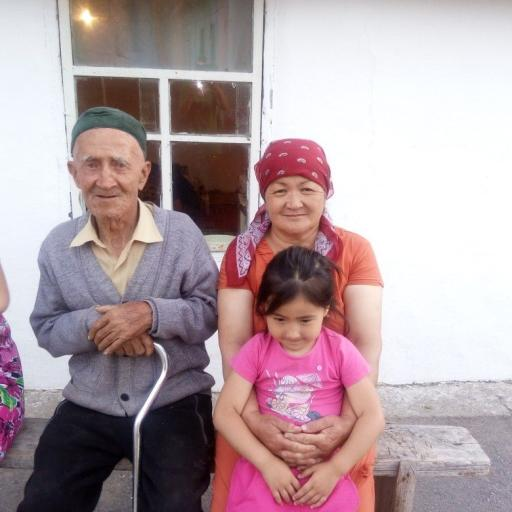crosswalk: (18, 107, 218, 512), (211, 138, 382, 512)
